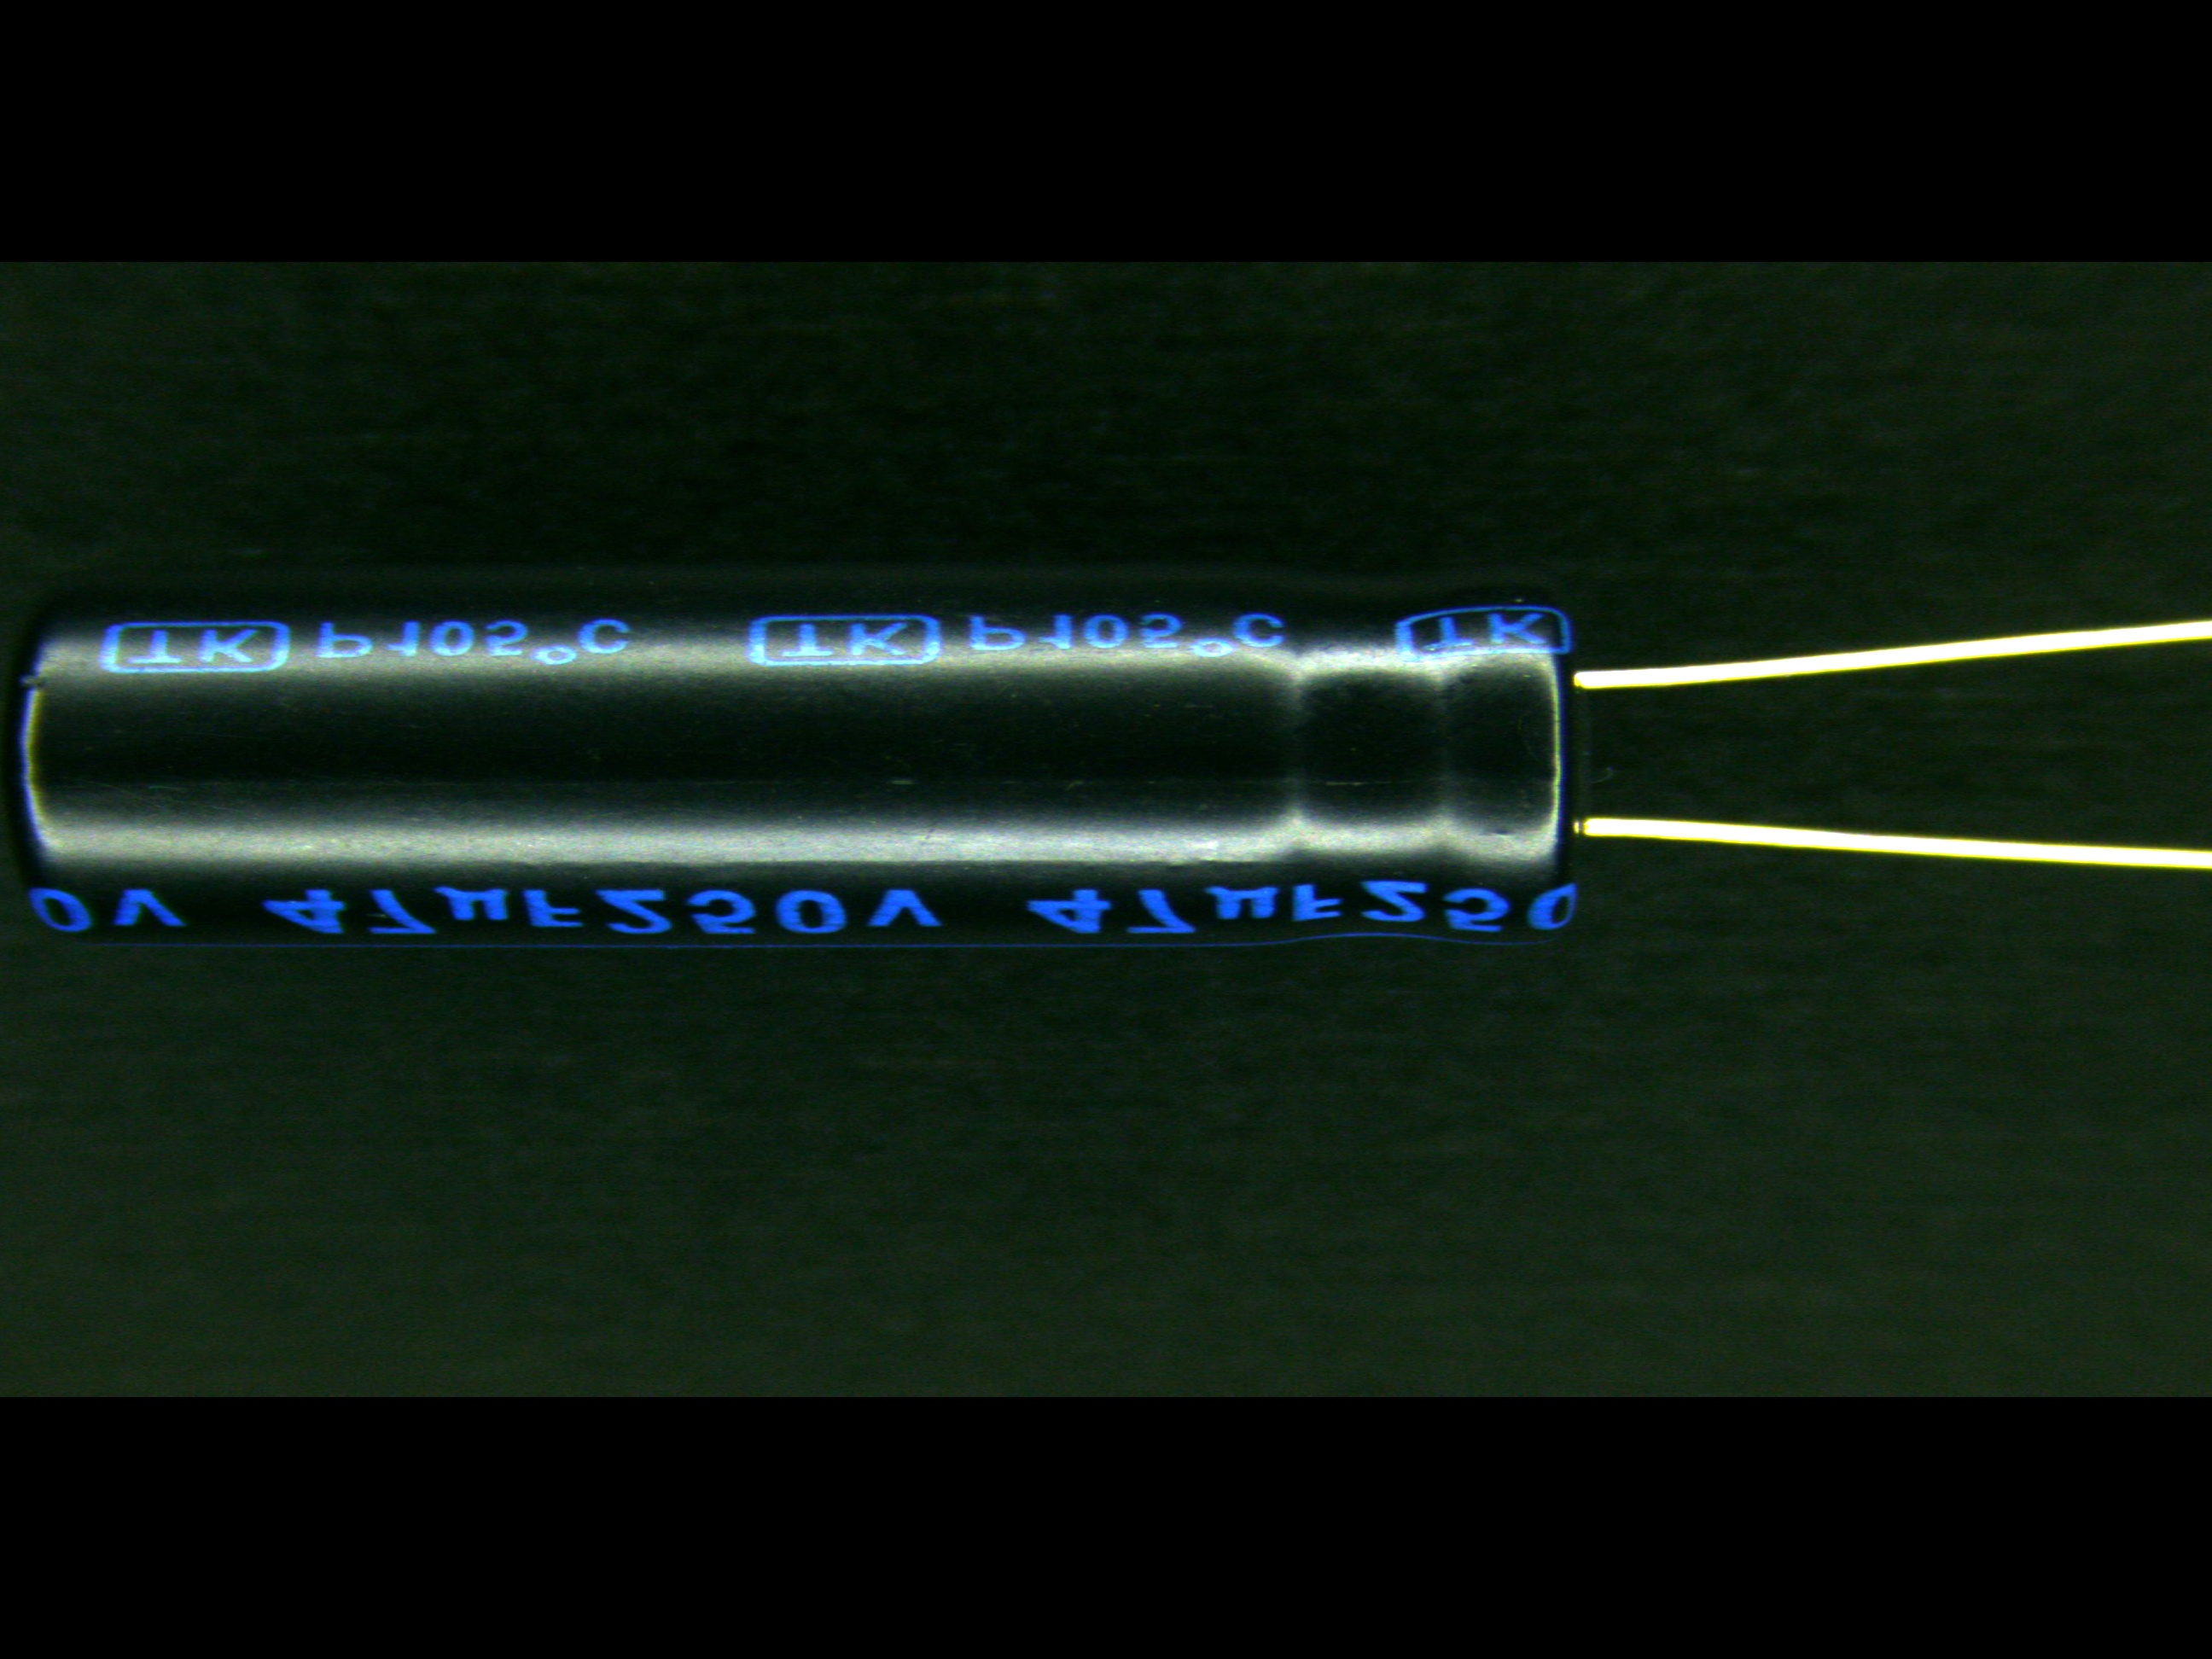c2: (0, 570, 1815, 950)
